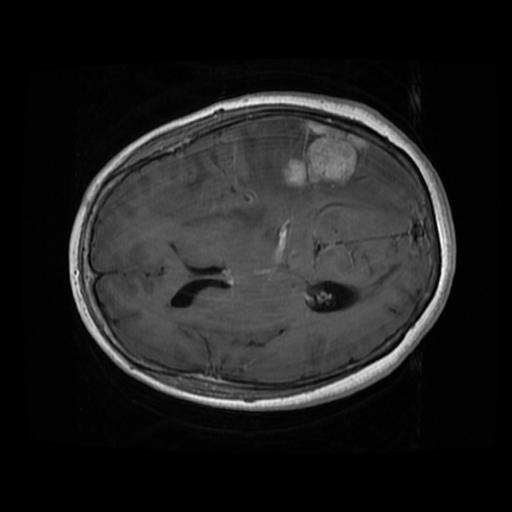meningioma: (283, 120, 369, 187)
